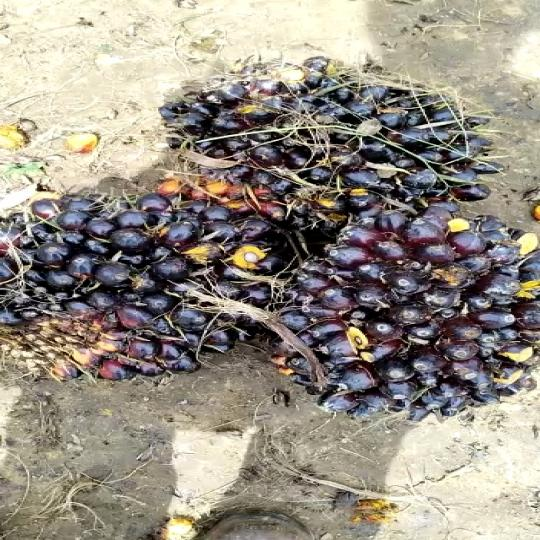mentah: (166, 50, 506, 232), (253, 212, 540, 414), (0, 187, 268, 380)
